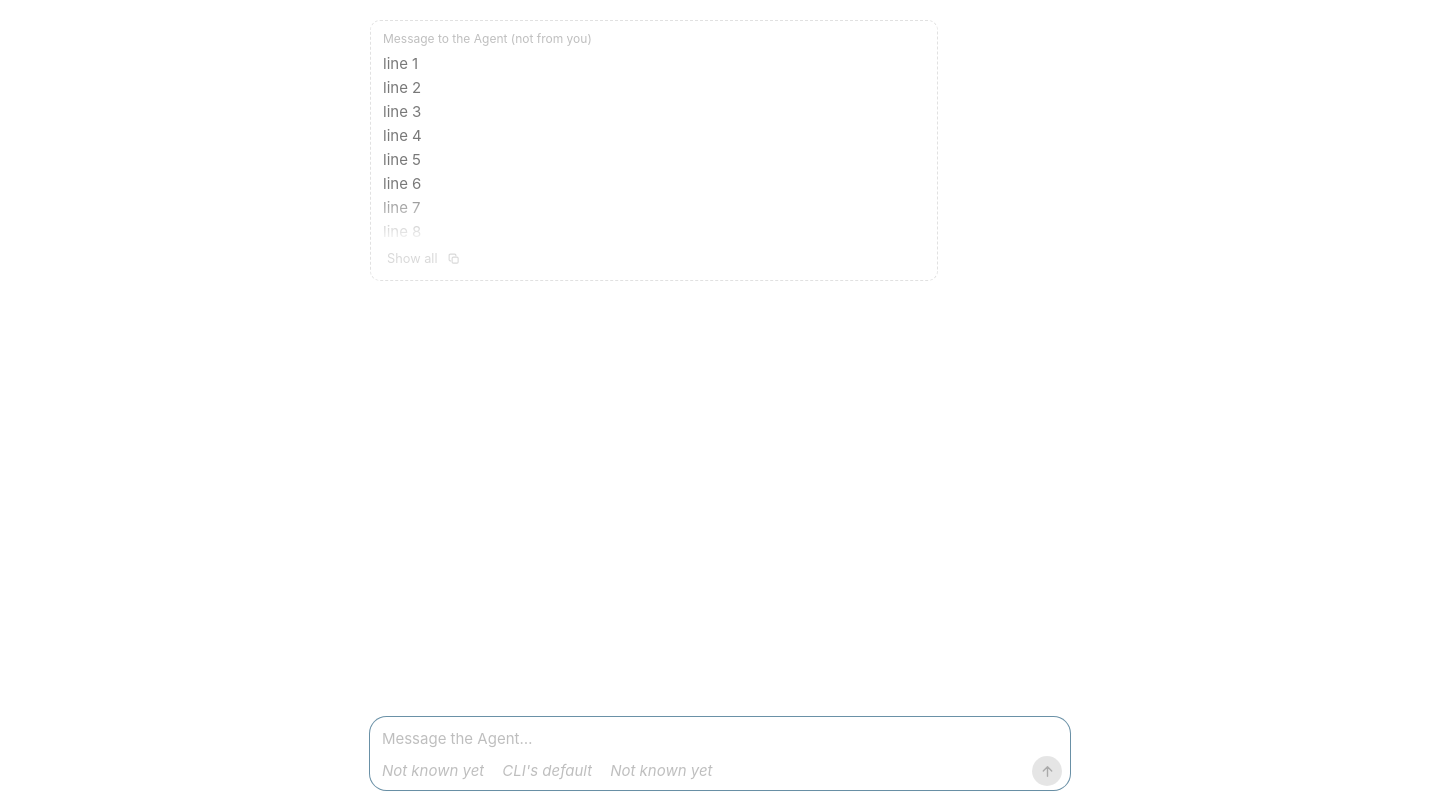
the find bar › unfolds a long message not from the person when the match is past its fold
The image size is (1440, 810).
Press f in the element with class "conversation-surface"
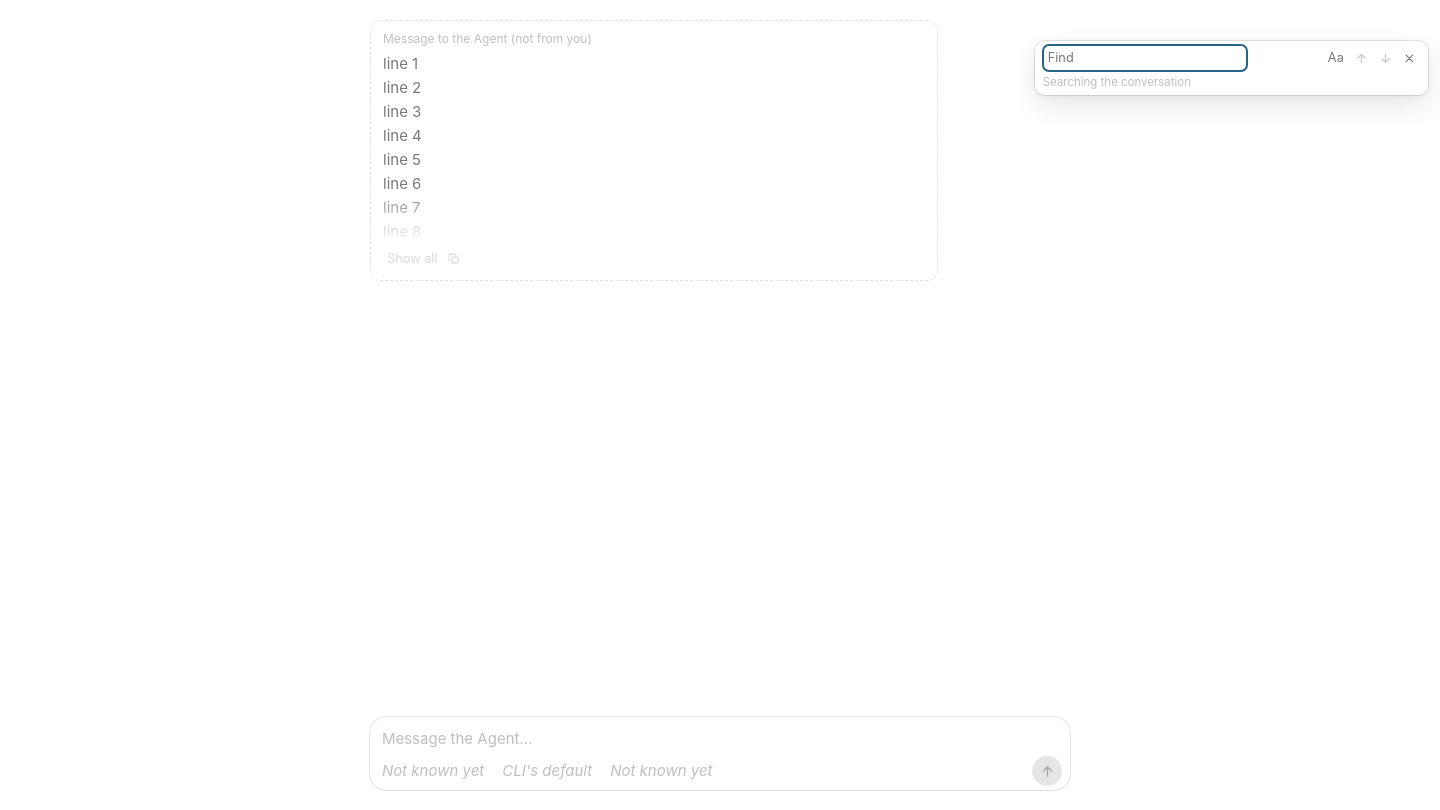
Type "line 11" into the field labelled "Find" at (1145, 58), box [1043,45,1247,71]
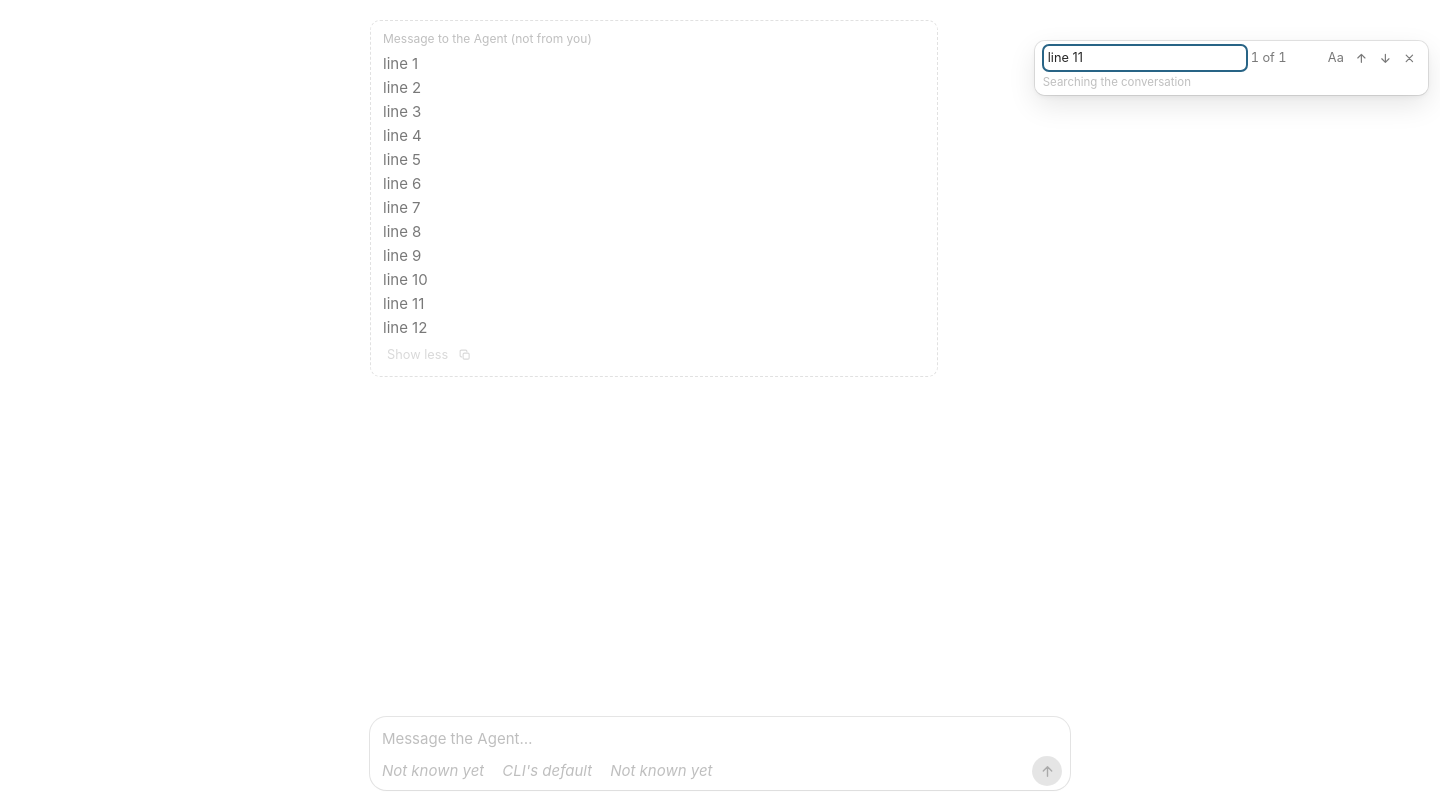
Check: the text with class "conversation-find-count" reads "1 of 1", box [1251,50,1286,65]
Check: the text "line 9 line 10 line 11 line 12" is shown, box [383,246,428,337]
